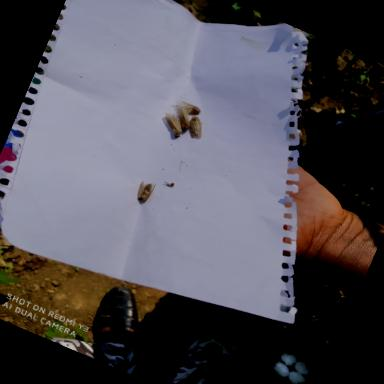abw: (168, 92, 207, 121), (156, 110, 188, 140), (168, 104, 198, 134), (130, 176, 158, 207), (180, 113, 208, 142)
